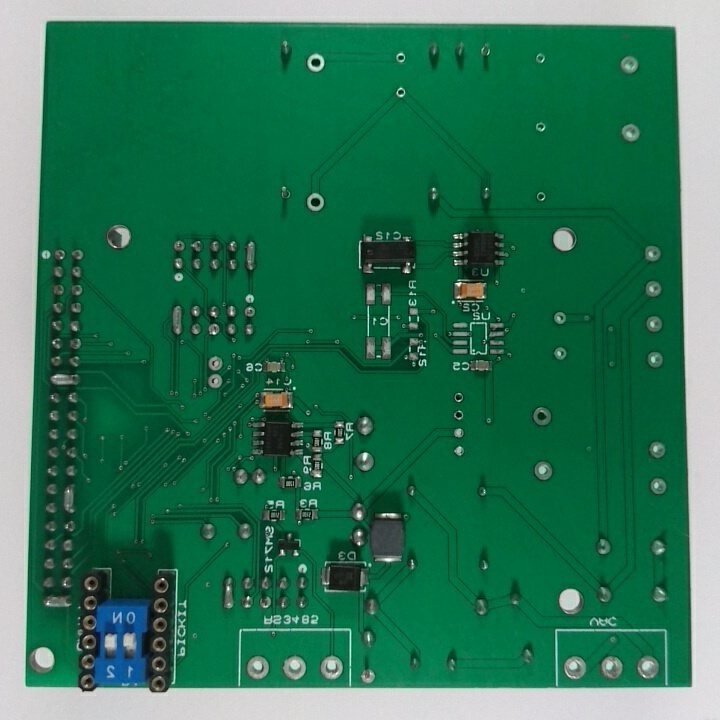F: (243, 651, 270, 683), (281, 654, 308, 682), (319, 654, 344, 682), (600, 655, 625, 682), (563, 655, 588, 681), (635, 655, 660, 681), (529, 405, 555, 428), (533, 458, 555, 483), (618, 53, 641, 75), (303, 52, 326, 73), (620, 122, 641, 145), (643, 278, 664, 299), (644, 314, 664, 335), (649, 475, 669, 496), (647, 440, 667, 460), (306, 192, 325, 213), (643, 243, 662, 264), (646, 349, 664, 369), (357, 668, 377, 685), (206, 354, 224, 371), (50, 281, 67, 299), (207, 373, 224, 390), (553, 345, 568, 362), (257, 594, 272, 610), (170, 238, 186, 253), (279, 184, 292, 202), (243, 305, 258, 320), (394, 50, 408, 66), (479, 42, 493, 58), (553, 310, 567, 326), (207, 322, 221, 338), (452, 425, 466, 440), (52, 246, 66, 261), (452, 444, 465, 460), (69, 337, 83, 351), (395, 86, 409, 98), (535, 120, 547, 134), (535, 52, 547, 65), (535, 191, 547, 203), (453, 409, 465, 421), (453, 391, 464, 404)
P: (220, 575, 236, 612), (40, 594, 75, 610), (169, 302, 184, 338), (49, 371, 82, 387), (62, 481, 77, 516), (244, 239, 257, 274)
